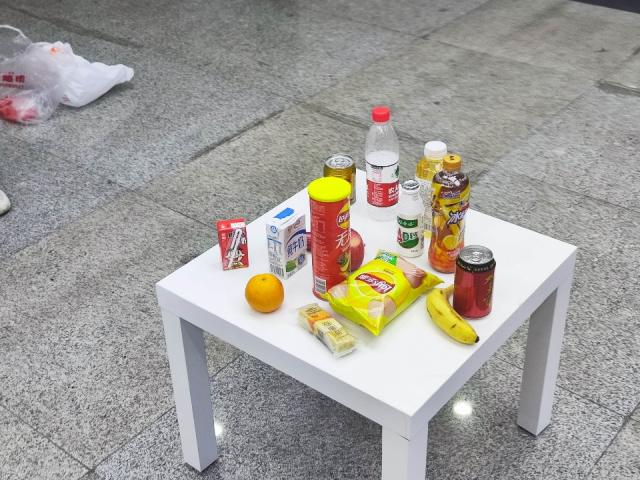Canned_drinks: (455, 243, 496, 322)
bottle: (366, 106, 402, 221)
cylinder: (308, 175, 351, 289)
drink_box: (262, 205, 309, 279), (216, 218, 252, 270)
